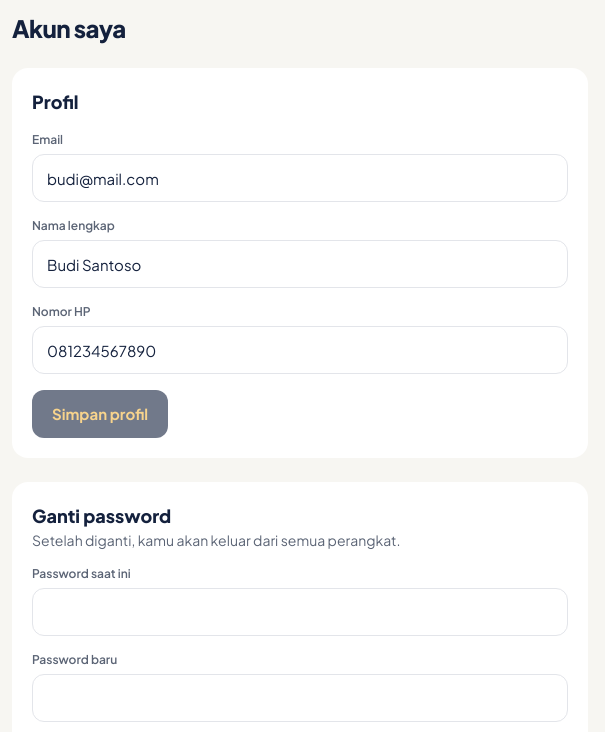
AccountPage — profil › simpan sukses → user di context diperbarui + banner sukses
The width and height of the screenshot is (605, 732).
Replace the text in the field labelled "Nama lengkap" with "Budi Baru" at (300, 264), box [32,240,568,288]
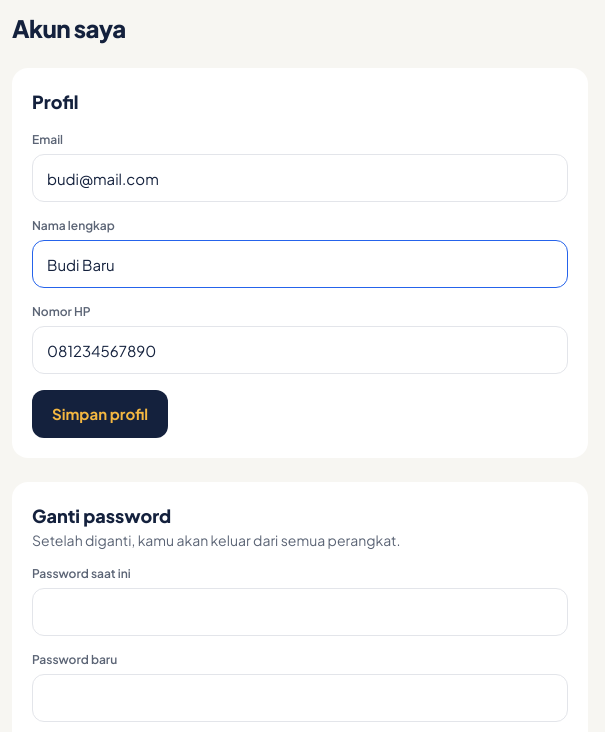
Click the button "Simpan profil" at (100, 414), box [32,390,168,438]
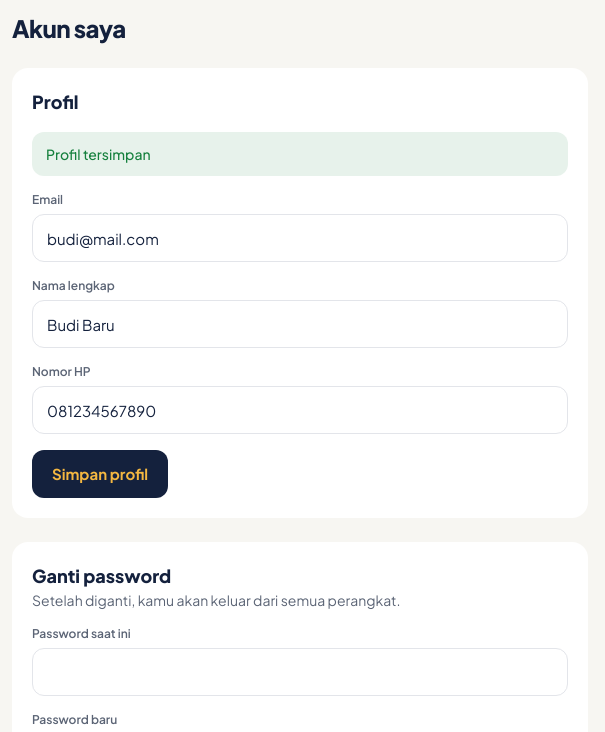
Now the text "Profil tersimpan" is shown, box [32,132,568,176]
